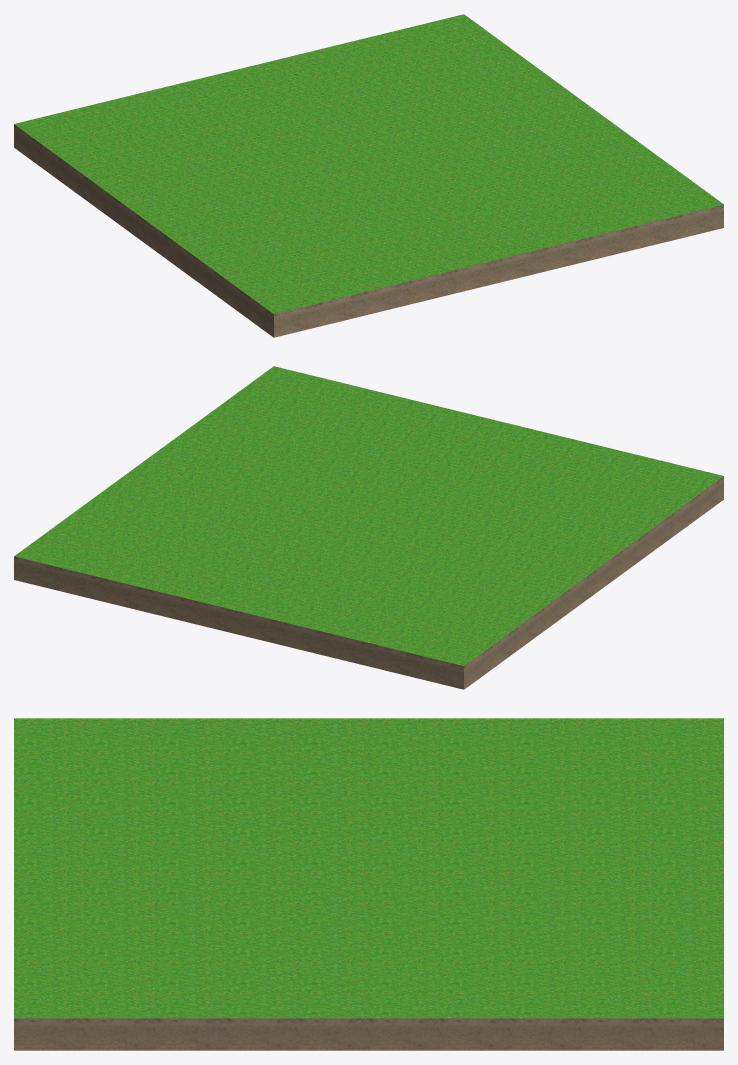
Rendered from block.obj.
3 renders of one model, top to bottom at view 1: azimuth 30°, elevation 25°; view 2: azimuth 150°, elevation 25°; view 3: azimuth 270°, elevation 25°, orthographic. The views are drawn at different scales.
Parts seen in each view (by area): view 1: Object002, Object001; view 2: Object002, Object001; view 3: Object002, Object001.
Part boxes in pixels (left/top/right/bottom): Object002: left=14, top=14, right=723, bottom=313; Object001: left=14, top=124, right=723, bottom=337; Object002: left=14, top=366, right=723, bottom=665; Object001: left=14, top=476, right=723, bottom=689; Object002: left=14, top=718, right=723, bottom=1018; Object001: left=14, top=1018, right=723, bottom=1050.
Bounding box in the file's own units: 100000 × 5000 × 100000.
Materials: 3 (3 with a texture image).
